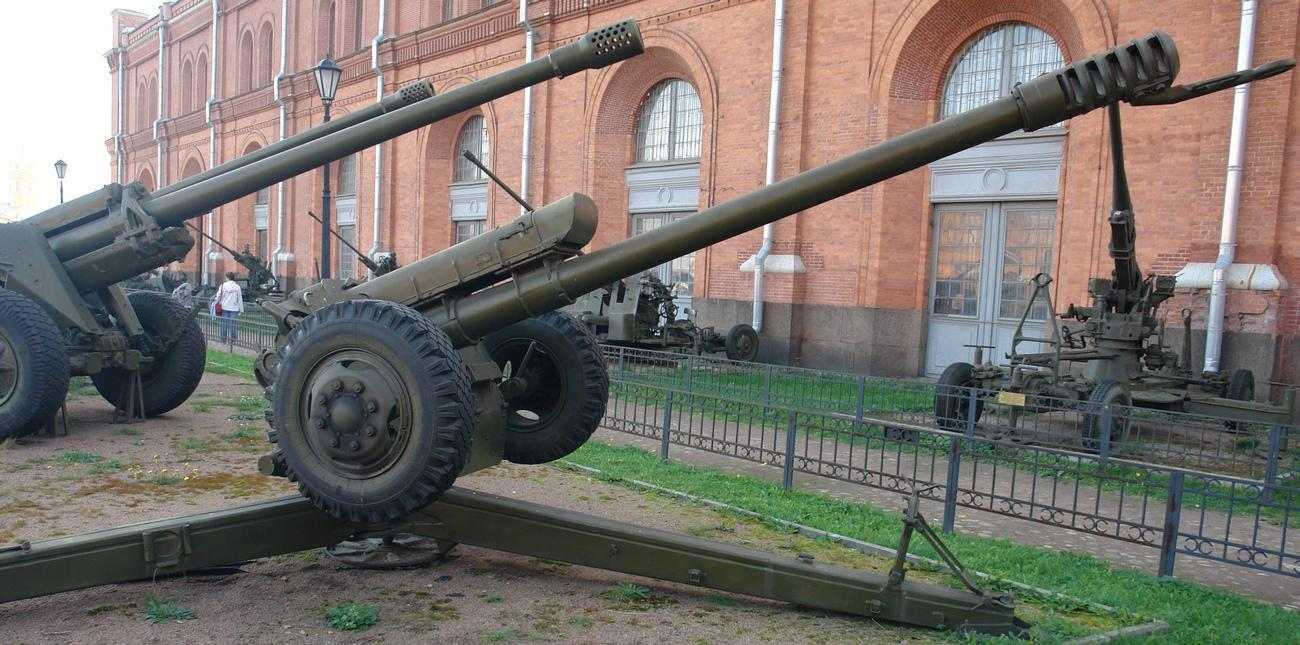sau: (7, 19, 1297, 645), (0, 5, 653, 440)
